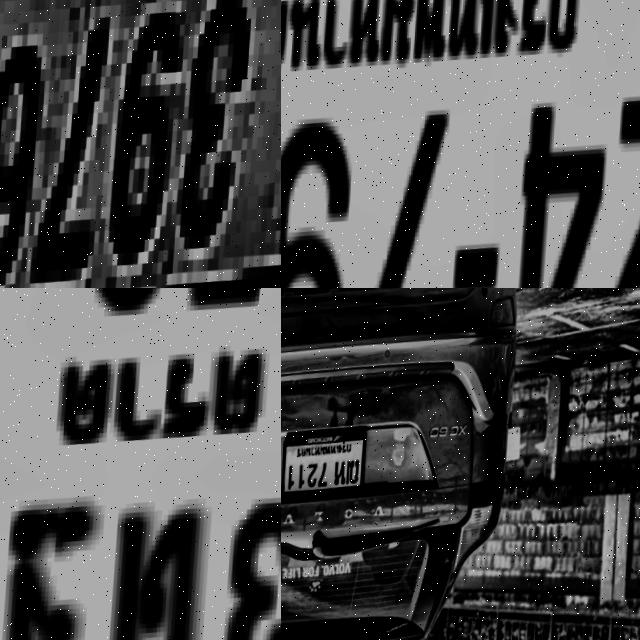license-plate: (281, 0, 640, 288), (0, 288, 281, 640), (0, 0, 281, 288), (281, 426, 373, 511)
